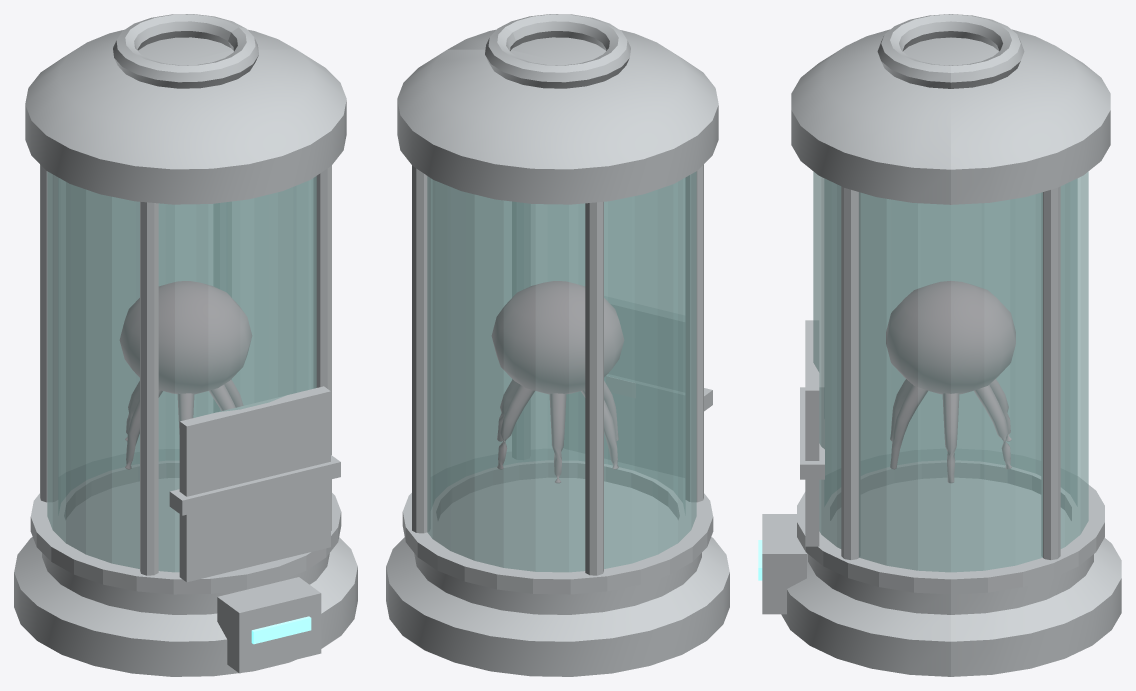
Rendered from xeno-species-and-alien-creatures-specimen-containment--71f706e3__21143.glb.
3 views of the same model, side by side, from view 1: azimuth 30°, elevation 25°; view 2: azimuth 150°, elevation 25°; view 3: azimuth 270°, elevation 25° (orthographic).
Visible parts, largest first — view 1: specimen-containment-tank, hatch; view 2: specimen-containment-tank, hatch; view 3: specimen-containment-tank, hatch.
Part boxes in pixels (bbox=[...]): specimen-containment-tank: bbox=[14, 14, 357, 676]; hatch: bbox=[169, 386, 340, 582]; specimen-containment-tank: bbox=[386, 14, 729, 676]; hatch: bbox=[606, 376, 712, 411]; specimen-containment-tank: bbox=[758, 14, 1121, 676]; hatch: bbox=[800, 320, 824, 546].
Bounding box in the file's own units: 1.24 × 2.24 × 1.31.
